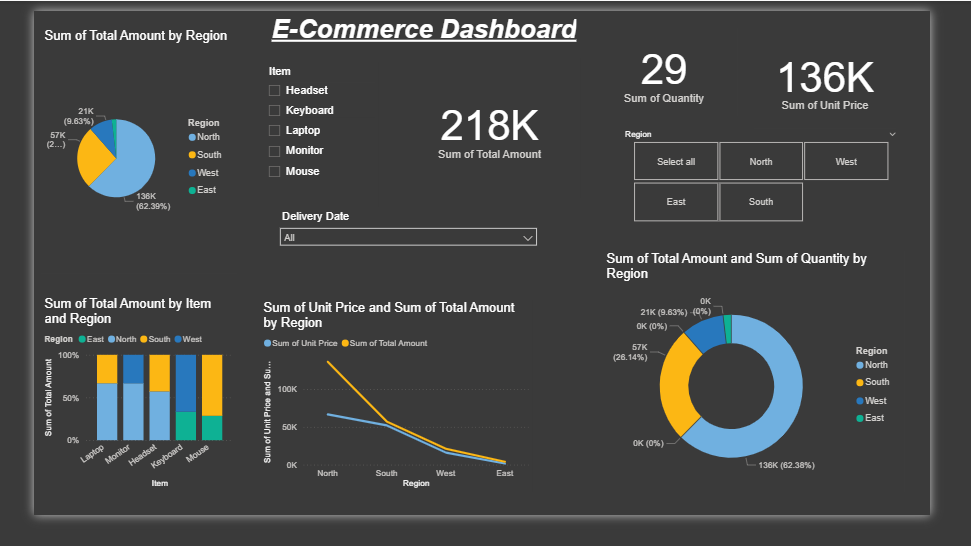

The page's visual inventory and layout, read from the dashboard file:
{"tool":"powerbi","page":{"name":"Page 2","canvas":[1280,720],"ordinal":0},"visuals":[{"type":"pieChart","fields":{"Category":["Sheet1 (3).Region"],"Y":["Sum(Sheet1 (3).Total Amount)"]},"box":[10,24.3,280,351.4],"z":0},{"type":"hundredPercentStackedColumnChart","fields":{"Category":["Sheet1 (3).Item"],"Y":["Sum(Sheet1 (3).Total Amount)"],"Series":["Sheet1 (3).Region"]},"box":[10,407.1,280,280],"z":1000},{"type":"donutChart","fields":{"Y":["Sum(Sheet1 (3).Total Amount)","Sum(Sheet1 (3).Quantity)"],"Category":["Sheet1 (3).Region"]},"box":[812.9,342.9,431.4,344.3],"z":2000},{"type":"lineChart","fields":{"Y":["Sum(Sheet1 (3).Unit Price)","Sum(Sheet1 (3).Total Amount)"],"Category":["Sheet1 (3).Region"]},"box":[322.9,412.9,388.6,274.3],"z":3000},{"type":"slicer","fields":{"Values":["Sheet1 (3).Region"]},"box":[831.4,164.3,412.9,142.9],"z":5000},{"type":"textbox","box":[322.9,0,457.1,72.9],"z":6000},{"type":"slicer","fields":{"Values":["Sheet1 (3).Item"]},"box":[322.9,72.9,168.6,207.1],"z":6001},{"type":"slicer","fields":{"Values":["Sheet1 (3).Delivery Date"]},"box":[341.4,280,387.1,107.1],"z":6002},{"type":"card","fields":{"Values":["Sum(Sheet1 (3).Total Amount)"]},"box":[521.4,67.1,258.6,200],"z":6003},{"type":"card","fields":{"Values":["Sum(Sheet1 (3).Quantity)"]},"box":[794.3,24.3,211.4,125.7],"z":6004},{"type":"card","fields":{"Values":["Sum(Sheet1 (3).Unit Price)"]},"box":[1028.6,27.1,202.9,141.4],"z":6005}]}

Visuals, with their boxes in screenshot pixels (x1, y1, x2, y2), scaled from the page's 1280x720 canvas onto the 971x546 screenshot:
pieChart - Sheet1 (3).Region x Sum(Sheet1 (3).Total Amount): [8,18,220,285]
hundredPercentStackedColumnChart - Sheet1 (3).Item x Sum(Sheet1 (3).Total Amount): [8,309,220,521]
donutChart - Sum(Sheet1 (3).Total Amount) x Sum(Sheet1 (3).Quantity): [617,260,944,521]
lineChart - Sum(Sheet1 (3).Unit Price) x Sum(Sheet1 (3).Total Amount): [245,313,540,521]
slicer - Sheet1 (3).Region: [631,125,944,233]
textbox: [245,0,592,55]
slicer - Sheet1 (3).Item: [245,55,373,212]
slicer - Sheet1 (3).Delivery Date: [259,212,553,294]
card - Sum(Sheet1 (3).Total Amount): [396,51,592,203]
card - Sum(Sheet1 (3).Quantity): [603,18,763,114]
card - Sum(Sheet1 (3).Unit Price): [780,21,934,128]
